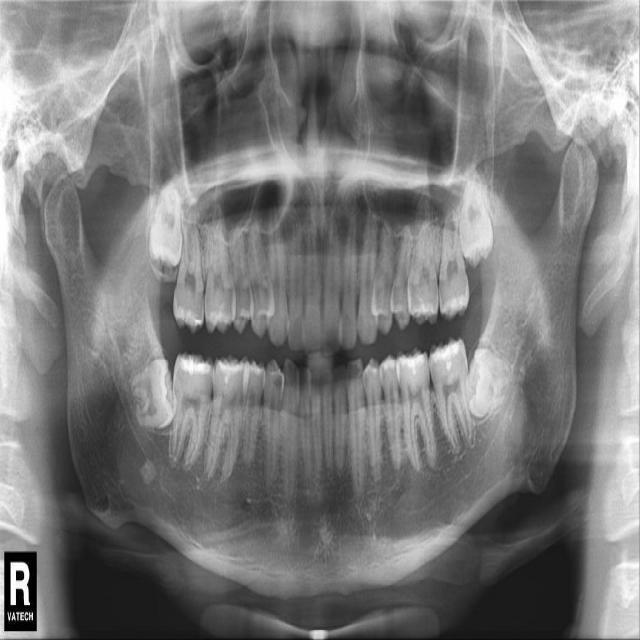Filling: (180, 355, 207, 376)
impacted tooth: (462, 347, 526, 415), (457, 163, 492, 261), (127, 360, 169, 426), (149, 181, 182, 262)
